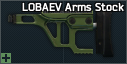DVL-10 stock: (0, 0, 127, 64)
